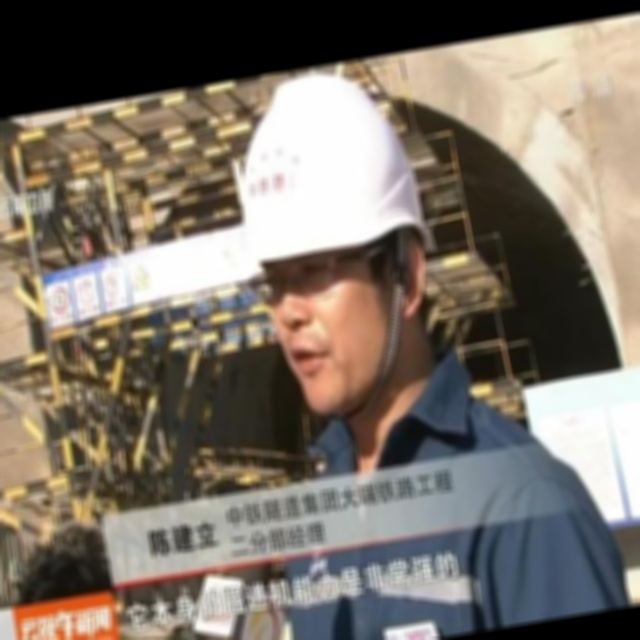Con_Casco: (221, 53, 452, 423)
